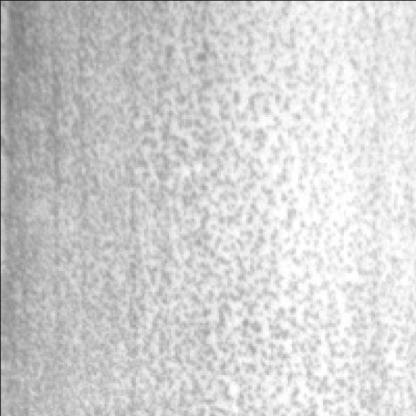pitted_surface: (129, 0, 412, 414)
